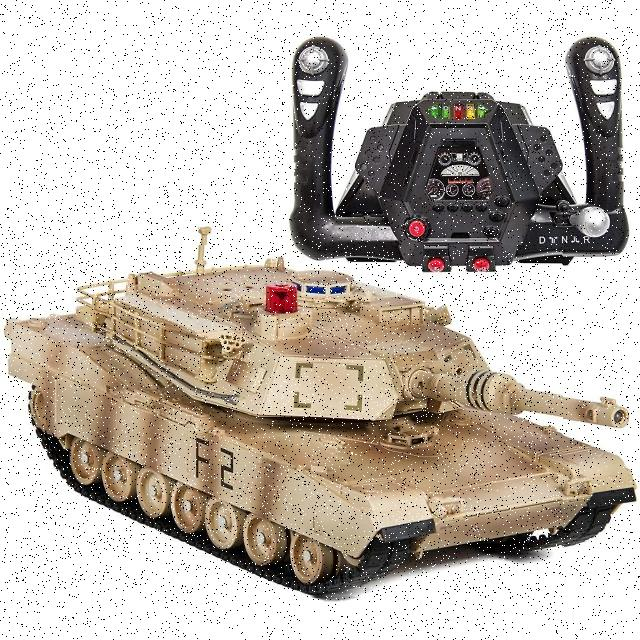MIL_MBT: (7, 245, 562, 596)
